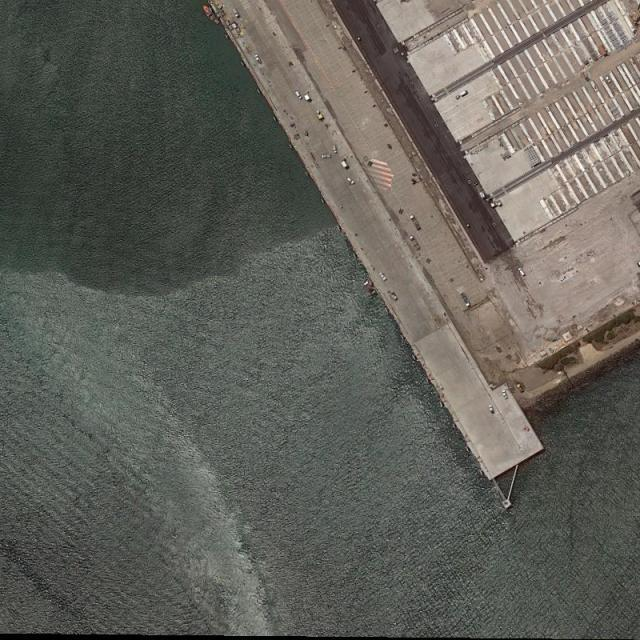vehicle: (378, 271, 389, 282), (294, 89, 303, 100), (518, 266, 526, 278), (346, 176, 355, 186), (233, 7, 240, 19), (254, 54, 262, 64), (332, 143, 338, 154), (502, 390, 508, 400), (322, 155, 331, 159), (489, 405, 493, 414)
